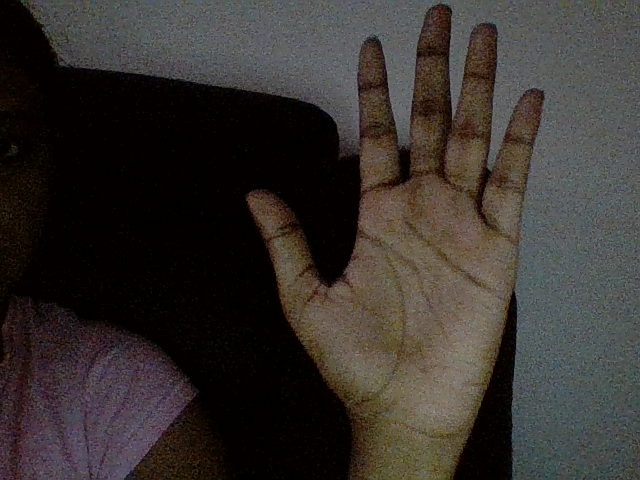Hello: (232, 7, 581, 475)
